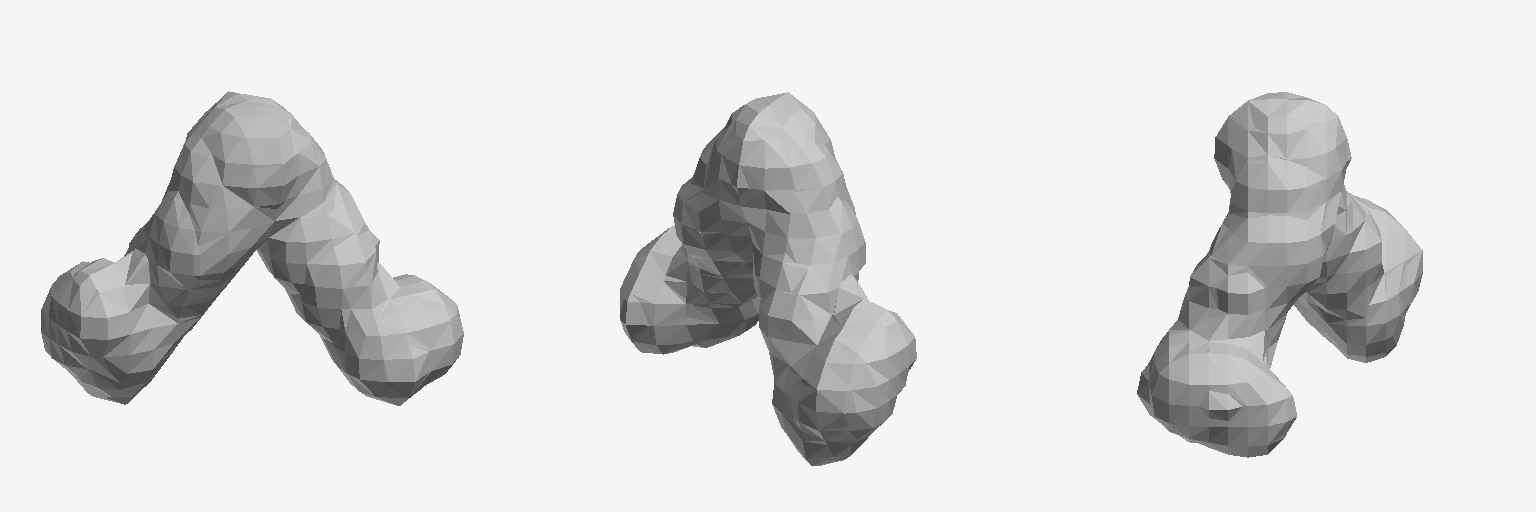
The model's file is 4j80_1_cms.obj.
3 views of the same model, side by side, from view 1: azimuth 30°, elevation 25°; view 2: azimuth 150°, elevation 25°; view 3: azimuth 270°, elevation 25° (orthographic).
Bounding box in the file's own units: 137 × 123 × 103.